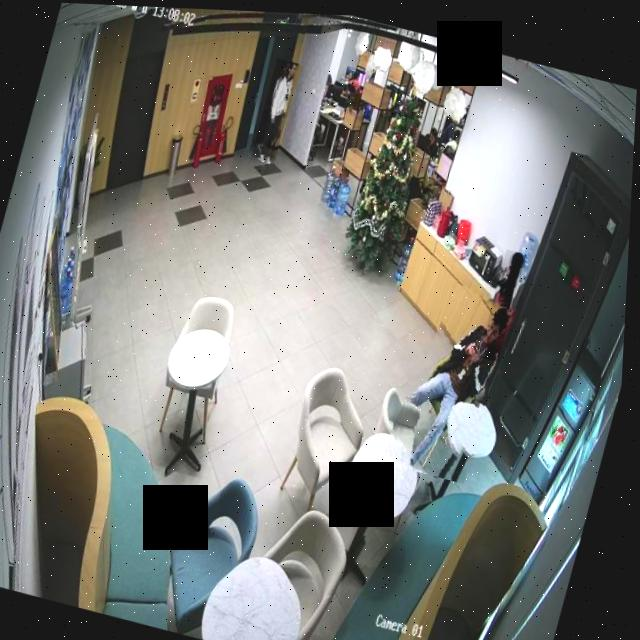person: (389, 273, 516, 480), (251, 54, 301, 163), (481, 244, 528, 357)
